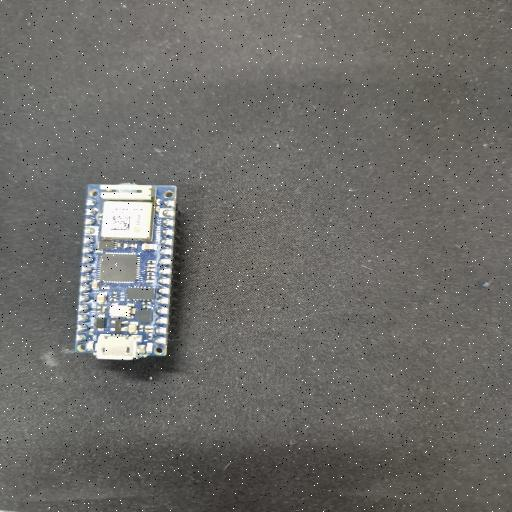arduino-nano-iot-33: (76, 184, 175, 358)
